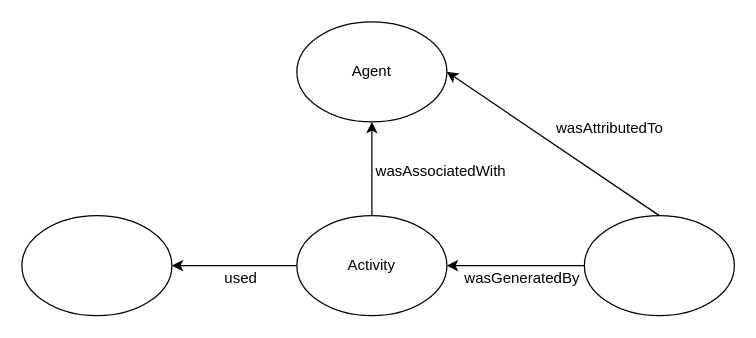
Image size: 756x338. Some labels were removed from this diagram. Here are the shapes that lost their labels. From the top down, the box of each, then its label:
(21, 214, 172, 316): Input Entity
(583, 214, 734, 316): Output Entity
